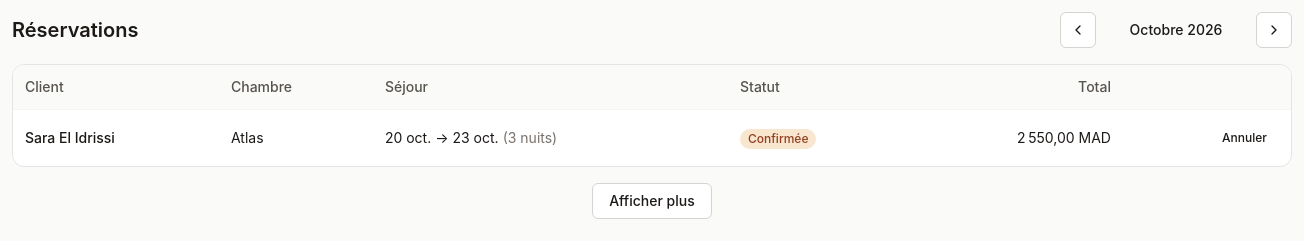
Scenario: ReservationsPage › lists the reservations of the month and loads more with the cursor
The width and height of the screenshot is (1304, 241).
Expected: the text "Sara El Idrissi" is shown, [13,110,219,166]
Expected: the text "(3 nuits)" is shown, [503,129,557,146]
Click the button "Afficher plus". click: (652, 201)
box: [592,183,712,219]
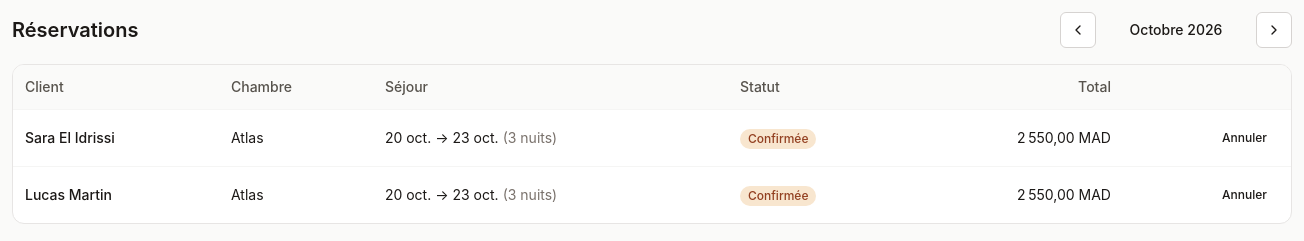
Expected: the text "Lucas Martin" is shown, [13,166,219,223]
Expected: the button "Afficher plus" is gone
